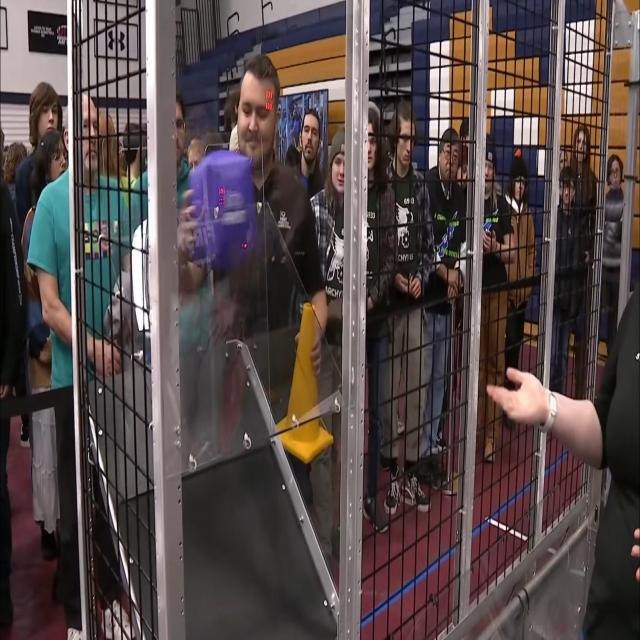frc_cone: (271, 299, 335, 461)
frc_cube: (188, 146, 256, 269)
